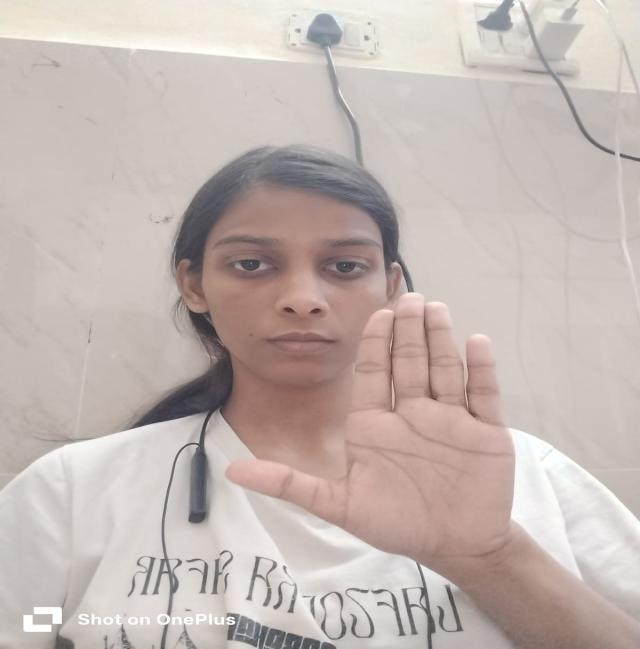Hello: (219, 282, 535, 586)
